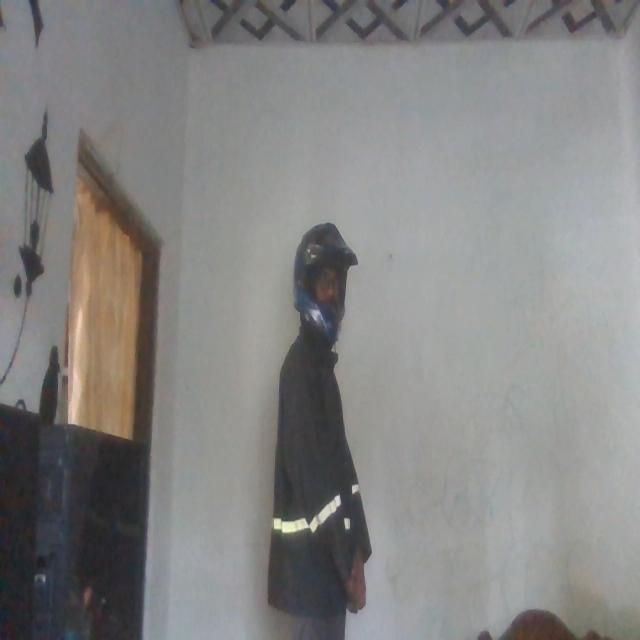Helmet_Wearer: (284, 222, 352, 345)
Jacket_Wearer: (268, 322, 368, 618)
Person: (265, 211, 381, 640)
